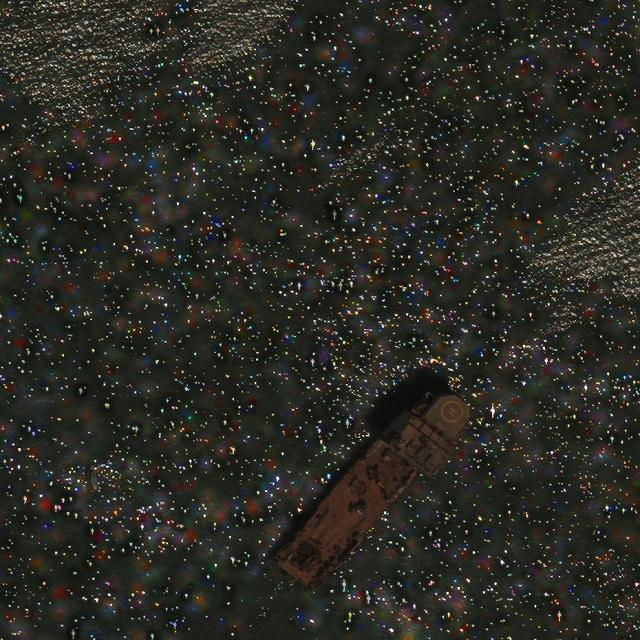Cargo: (264, 369, 486, 608)
